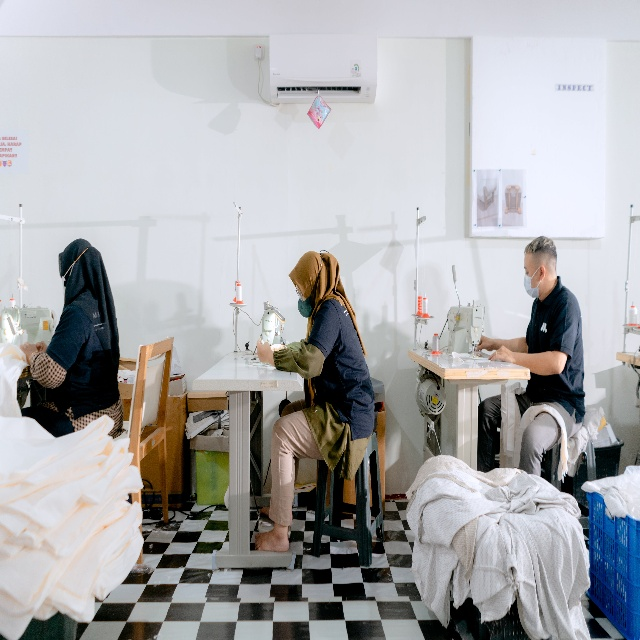Gafas: (296, 288, 304, 302)
Mascara: (61, 246, 89, 292), (298, 267, 322, 317), (523, 267, 543, 299)
Sin_guantes: (488, 345, 515, 363), (256, 337, 273, 365), (19, 340, 39, 363), (476, 334, 494, 352), (36, 340, 48, 353), (270, 343, 284, 352)
